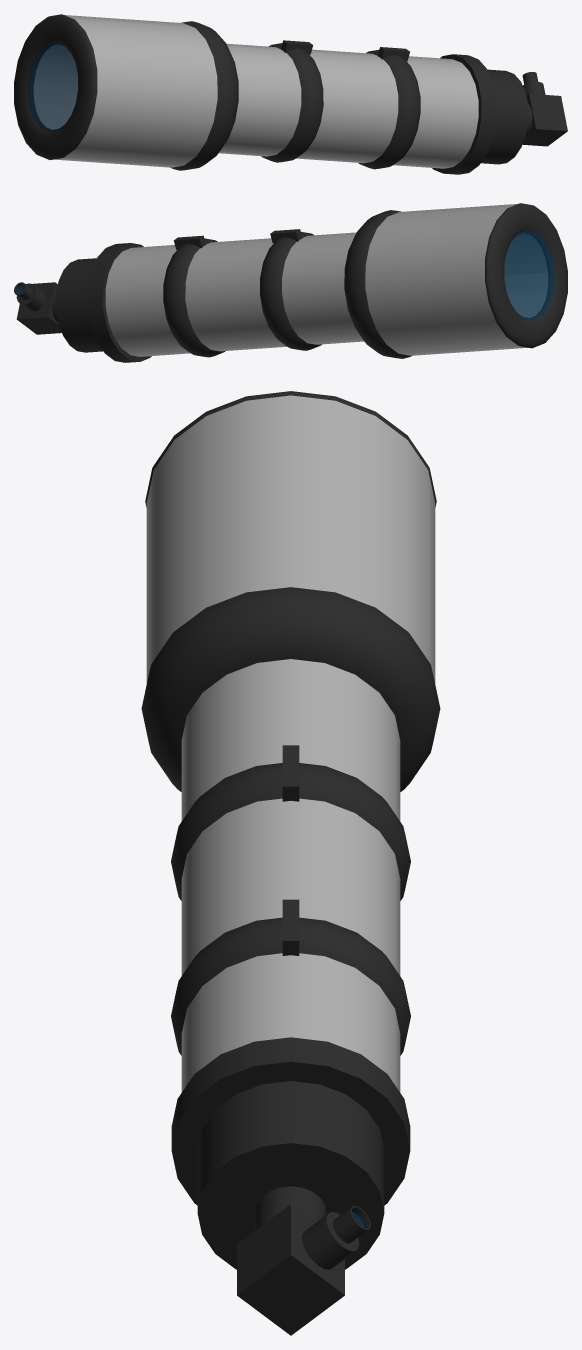
Rendered from withoutTripod.fbx.
3 renders of one model, top to bottom at view 1: azimuth 30°, elevation 25°; view 2: azimuth 150°, elevation 25°; view 3: azimuth 270°, elevation 25°, orthographic. The views are drawn at different scales.
Parts seen in each view (by area): view 1: pCylinder2, pCylinder22, pTorus5, pDisc1, pTorus1, pCylinder4, pTorus3, pTorus4, pCylinder3, pCube3, pCube2, pCube1 (+1 smaller); view 2: pCylinder2, pCylinder22, pTorus5, pDisc1, pTorus1, pCylinder4, pTorus4, pTorus3, pCylinder3, pCube3, pCylinder7, pCube1 (+2 smaller); view 3: pCylinder2, pCylinder22, pTorus1, pCylinder4, pCylinder3, pTorus3, pTorus4, pCube3, pCylinder7, pCylinder5, pTorus5.
Boxes of the visible parts, left/top/right/bottom form: pCylinder2: left=219, top=43, right=478, bottom=168; pCylinder22: left=34, top=15, right=217, bottom=167; pTorus5: left=14, top=14, right=97, bottom=159; pDisc1: left=27, top=41, right=77, bottom=131; pTorus1: left=170, top=21, right=238, bottom=170; pCylinder4: left=481, top=69, right=528, bottom=164; pTorus3: left=261, top=43, right=323, bottom=162; pTorus4: left=358, top=49, right=420, bottom=169; pCylinder3: left=432, top=54, right=496, bottom=174; pCube3: left=522, top=93, right=567, bottom=146; pCube2: left=378, top=47, right=409, bottom=61; pCube1: left=281, top=40, right=313, bottom=54; pCylinder2: left=105, top=232, right=364, bottom=356; pCylinder22: left=365, top=204, right=547, bottom=355; pTorus5: left=485, top=203, right=567, bottom=348; pDisc1: left=504, top=230, right=554, bottom=319; pTorus1: left=344, top=210, right=412, bottom=358; pCylinder4: left=56, top=258, right=102, bottom=352; pTorus4: left=163, top=238, right=225, bottom=357; pTorus3: left=260, top=231, right=321, bottom=350; pCylinder3: left=87, top=243, right=151, bottom=362; pCube3: left=16, top=282, right=61, bottom=334; pCylinder7: left=16, top=283, right=45, bottom=311; pCube1: left=270, top=229, right=302, bottom=243; pCylinder2: left=181, top=659, right=400, bottom=1092; pCylinder22: left=146, top=395, right=435, bottom=683; pTorus1: left=141, top=587, right=440, bottom=791; pCylinder4: left=197, top=1081, right=384, bottom=1269; pCylinder3: left=171, top=1037, right=410, bottom=1205; pTorus3: left=171, top=763, right=410, bottom=900; pTorus4: left=171, top=917, right=410, bottom=1055; pCube3: left=237, top=1204, right=344, bottom=1335; pCylinder7: left=301, top=1212, right=359, bottom=1269; pCylinder5: left=255, top=1186, right=326, bottom=1230; pTorus5: left=145, top=391, right=436, bottom=507.
Size of the model in its own units: 13.17 by 5.83 by 3.26.
